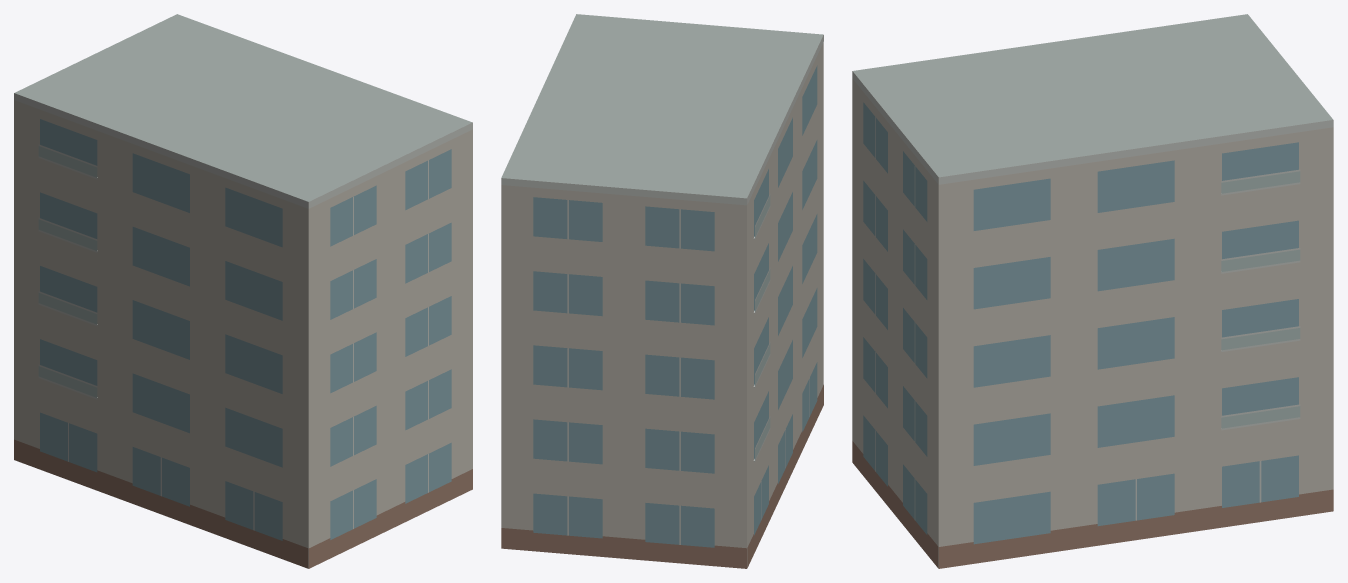
Rendered from survey-upis-32709100.glb.
3 renders of one model, left to right at view 1: azimuth 30°, elevation 25°; view 2: azimuth 150°, elevation 25°; view 3: azimuth 270°, elevation 25°, orthographic. The views are drawn at different scales.
Parts seen in each view (by area): view 1: survey-upis-32709100.tmp; view 2: survey-upis-32709100.tmp; view 3: survey-upis-32709100.tmp.
Boxes of the visible parts, x1,y1,x2,y2 form: survey-upis-32709100.tmp: (14,14,472,568); survey-upis-32709100.tmp: (501,14,823,568); survey-upis-32709100.tmp: (852,14,1333,568).
Size of the model in its own units: 11.56 by 12.9 by 14.38.
